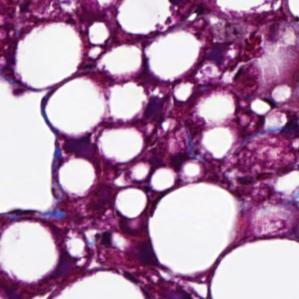inflammation: (239, 95, 295, 142)
